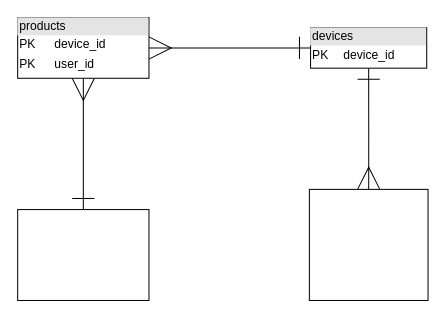
Image size: 446x318. Some labels were removed from this diagram. The centre of each missing label's shape, as x and y in pixels:
"journey PK journey_id datetime rtt tt FK1 device_id" goes at pixel 368 244.
"users PK user_id username password usertype" goes at pixel 83 254.
